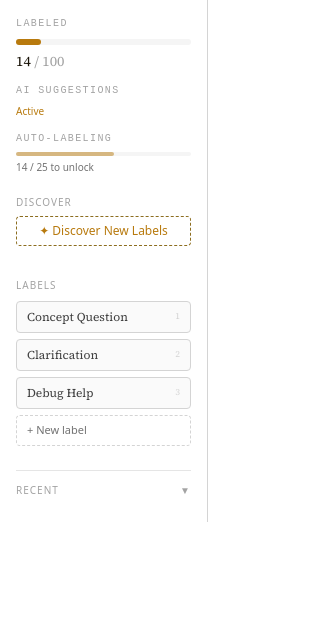
Test: history items visible after clicking Recent toggle
Click the text "Recent".
click(37, 490)  # box [16, 482, 59, 498]
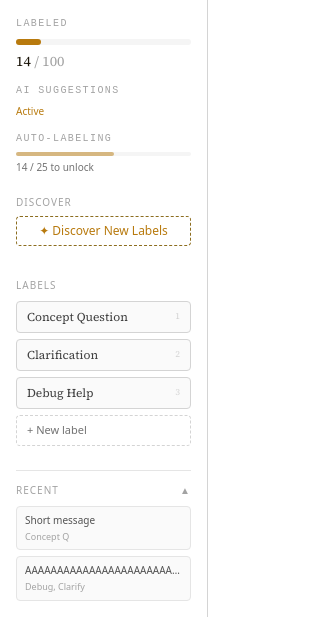
Expected: the text "Short message" is shown, [25, 512, 95, 526]
